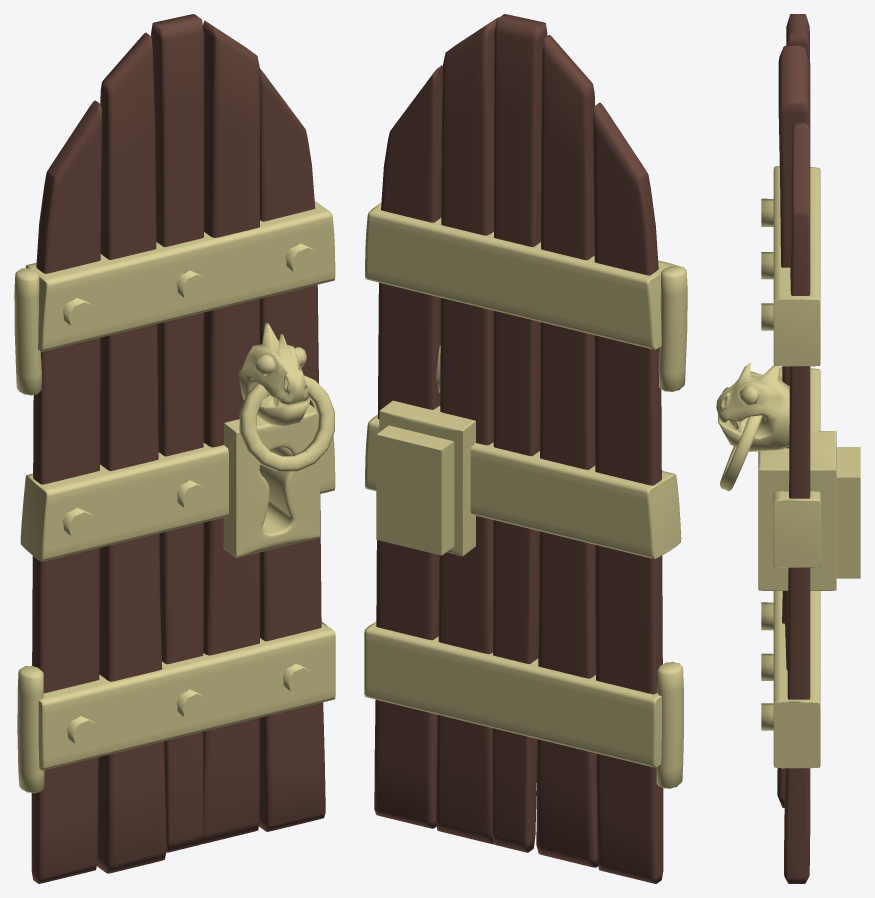
Rendered from BasicDoorLockStationary.fbx.
3 renders of one model, left to right at view 1: azimuth 30°, elevation 25°; view 2: azimuth 150°, elevation 25°; view 3: azimuth 270°, elevation 25°, orthographic. The views are drawn at different scales.
Visible parts, largest first — view 1: Cube.114, Cylinder.056; view 2: Cube.114, Cylinder.056; view 3: Cylinder.056, Cube.114.
Boxes of the visible parts, x1,y1,x2,y2 form: Cube.114: (31,14,325,883); Cylinder.056: (14,201,335,793); Cube.114: (374,14,663,883); Cylinder.056: (364,202,687,788); Cylinder.056: (716,166,860,768); Cube.114: (777,14,810,883).
Size of the model in its own units: 106 by 44.98 by 273.
